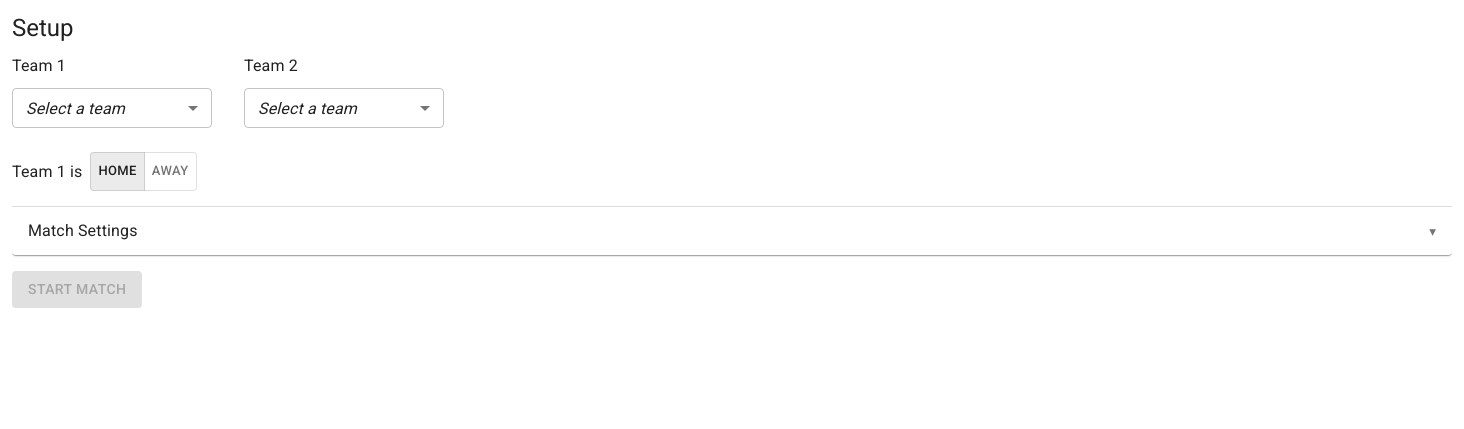
Test: SetupScreen › disables Start Match when the same team is selected for both sides
Click the dropdown named "Team 1" at {"x": 76, "y": 108}, box [26,99,125,118]
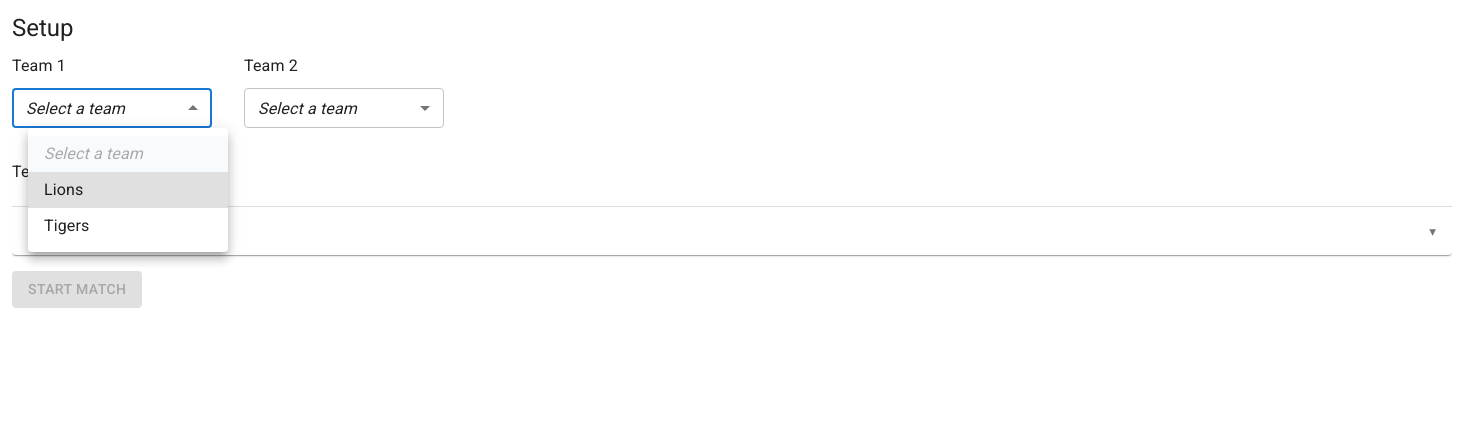
Click the option "Lions" at {"x": 128, "y": 190}, box [28,172,228,208]
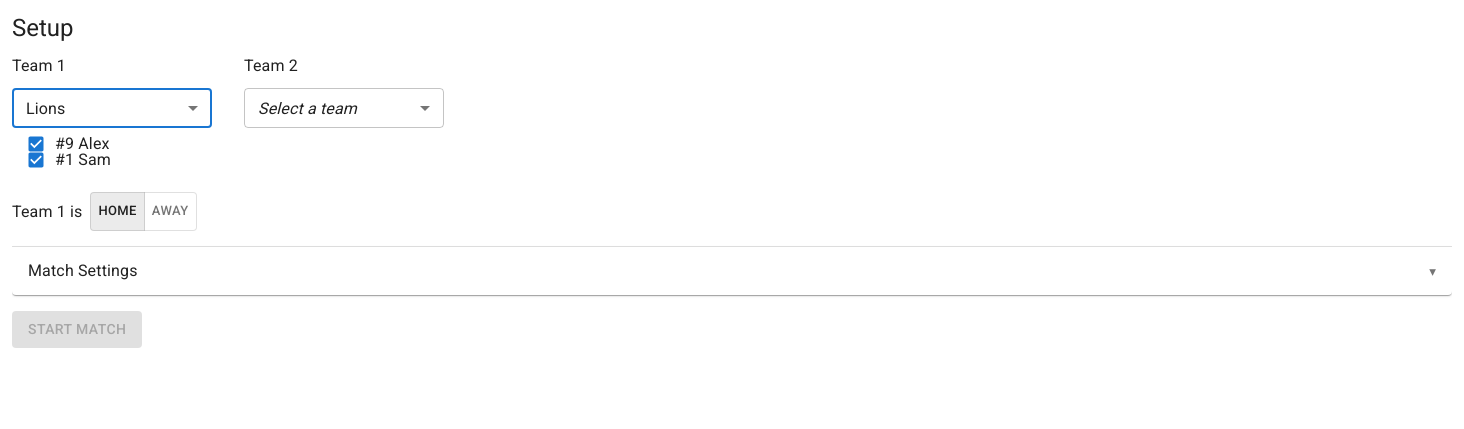
Click the dropdown named "Team 2" at {"x": 308, "y": 108}, box [258,99,357,118]
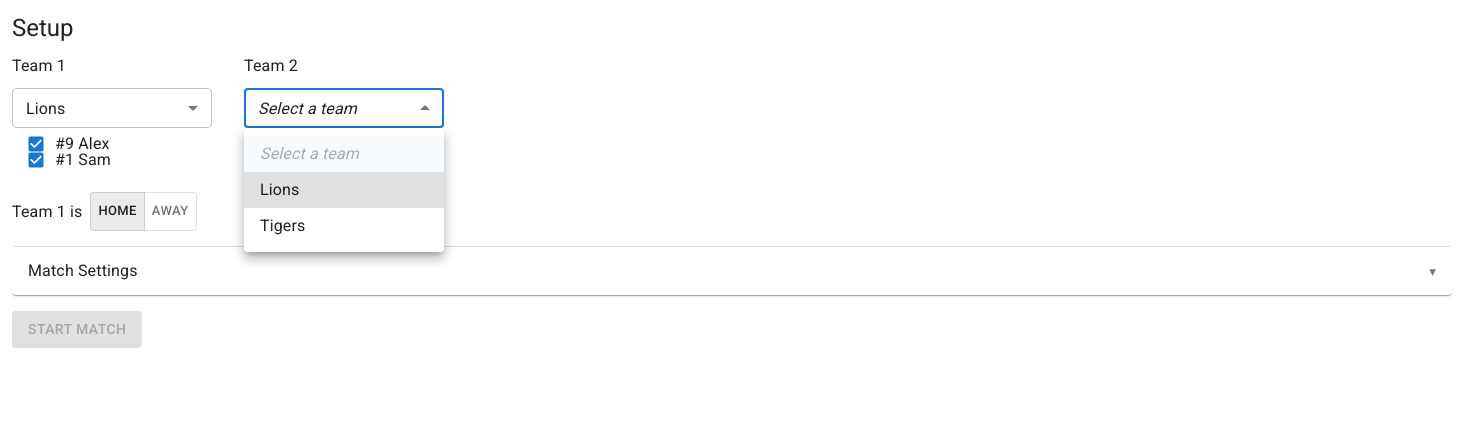
Click the option "Lions" at {"x": 344, "y": 190}, box [244,172,444,208]
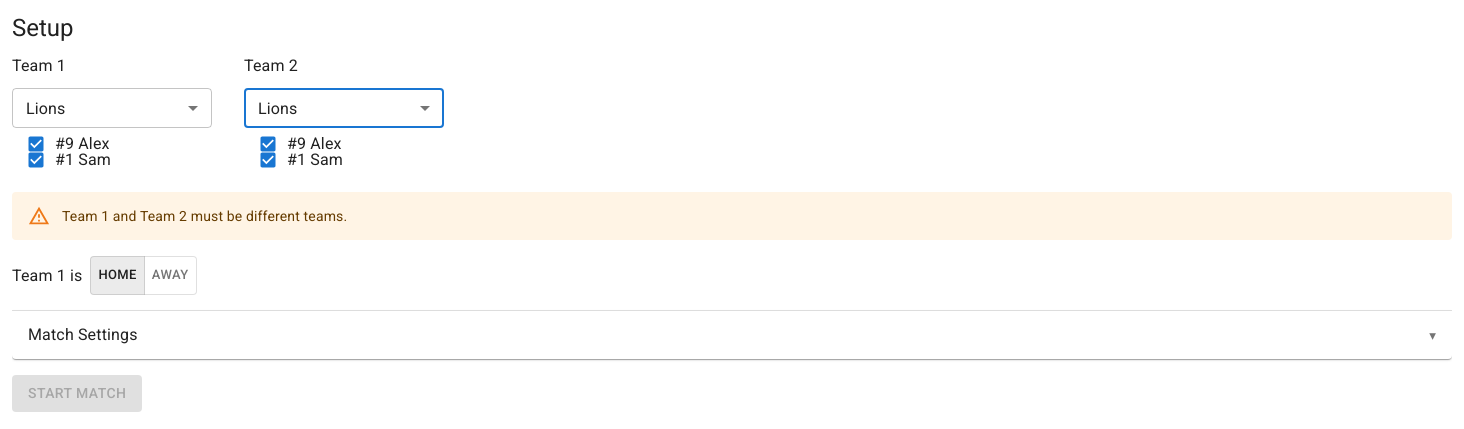
Check: the button "Start Match" is disabled, box [12,375,142,412]
Check: the text "Team 1 and Team 2 must be different teams." is shown, box [62,208,347,224]
